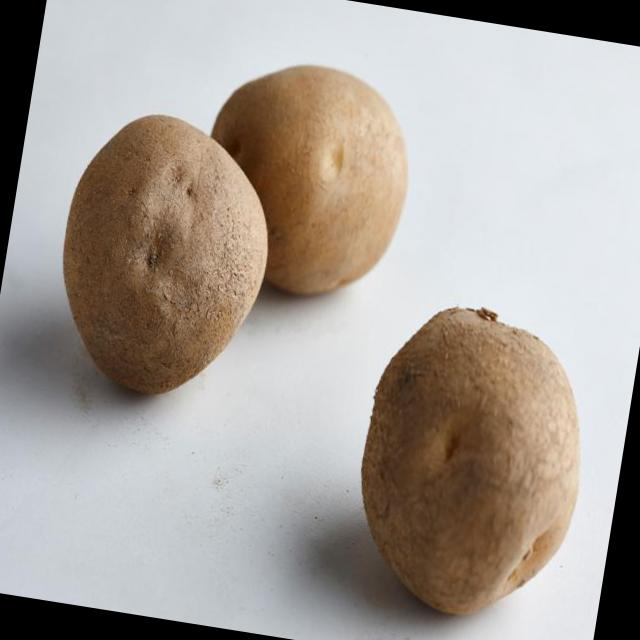potato: (340, 301, 580, 628), (46, 124, 270, 416)
